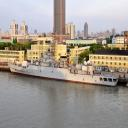Fragata: (7, 32, 121, 88)
